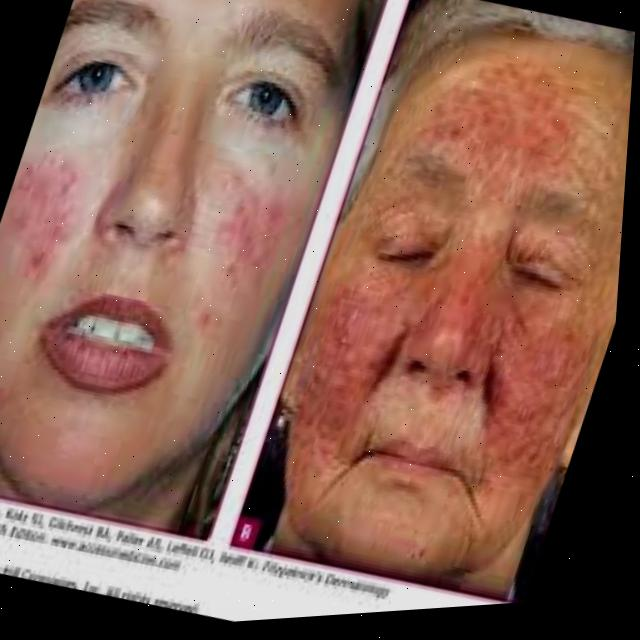Rosacea: (399, 27, 610, 219), (443, 275, 619, 498), (279, 247, 440, 453), (170, 143, 319, 342), (400, 226, 527, 393), (0, 134, 108, 300)
